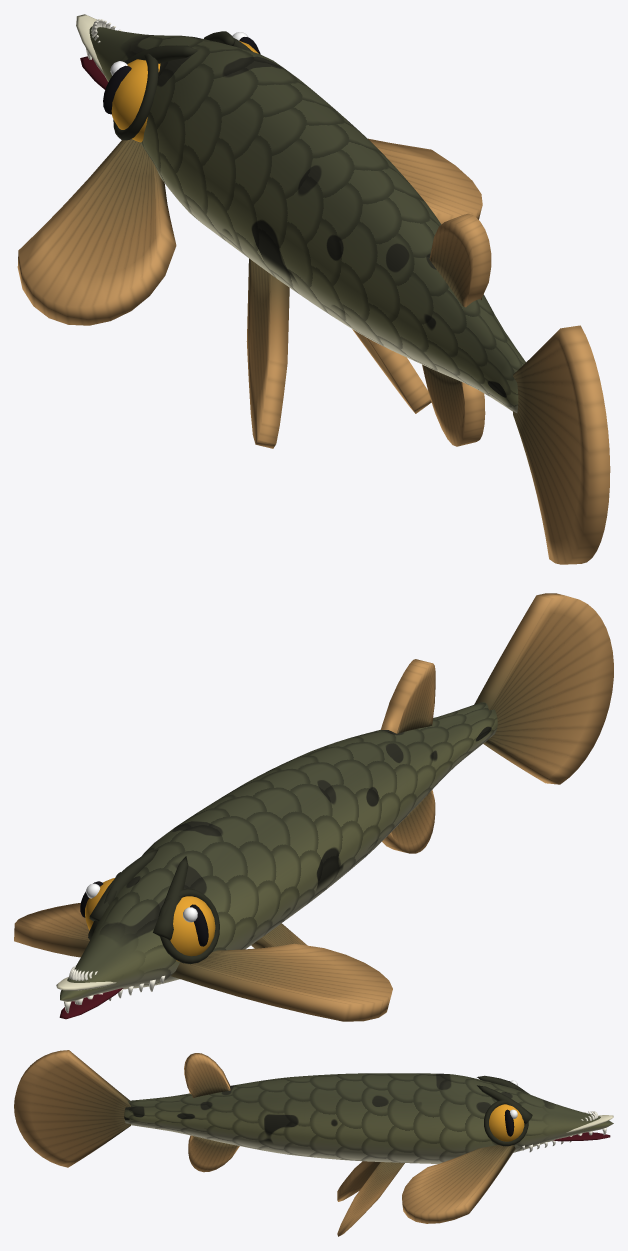
Rendered from AlligatorGar.fbx.
3 renders of one model, top to bottom at view 1: azimuth 30°, elevation 25°; view 2: azimuth 150°, elevation 25°; view 3: azimuth 270°, elevation 25°, orthographic. The views are drawn at different scales.
Parts seen in each view (by area): view 1: AlligatorGar; view 2: AlligatorGar; view 3: AlligatorGar.
Boxes of the visible parts, x1,y1,x2,y2 form: AlligatorGar: [17, 14, 610, 564]; AlligatorGar: [14, 593, 613, 1021]; AlligatorGar: [14, 1050, 613, 1236].
Bounding box in the file's own units: 197 × 137 × 465.
Materials: 1 (1 with a texture image).
